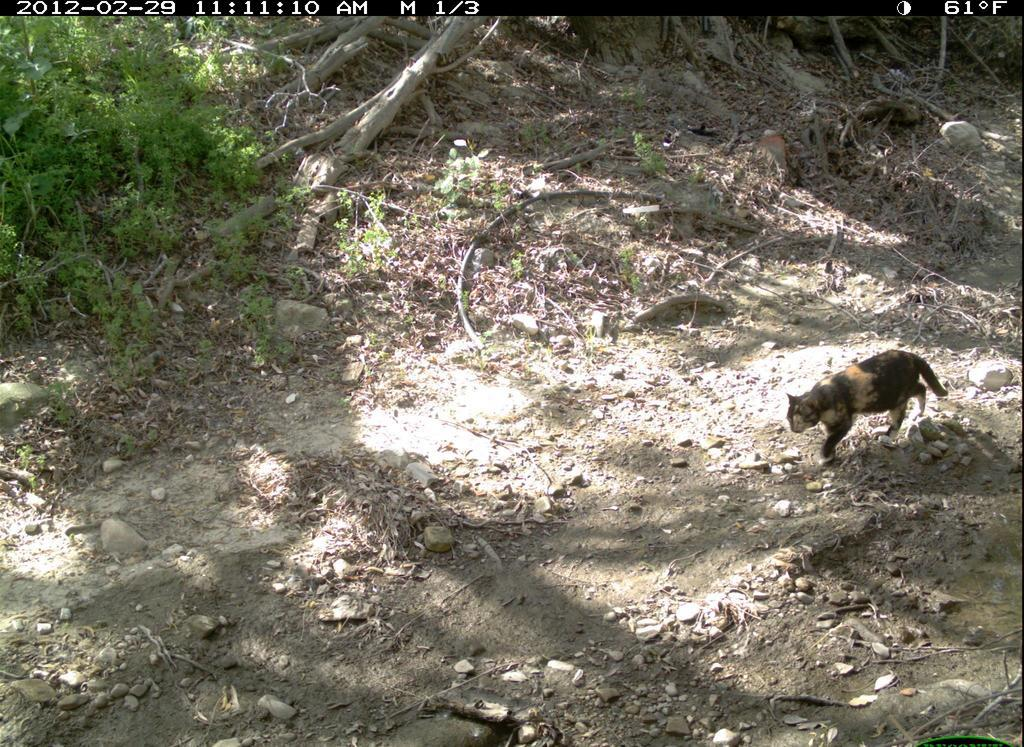cat: (776, 344, 955, 473)
